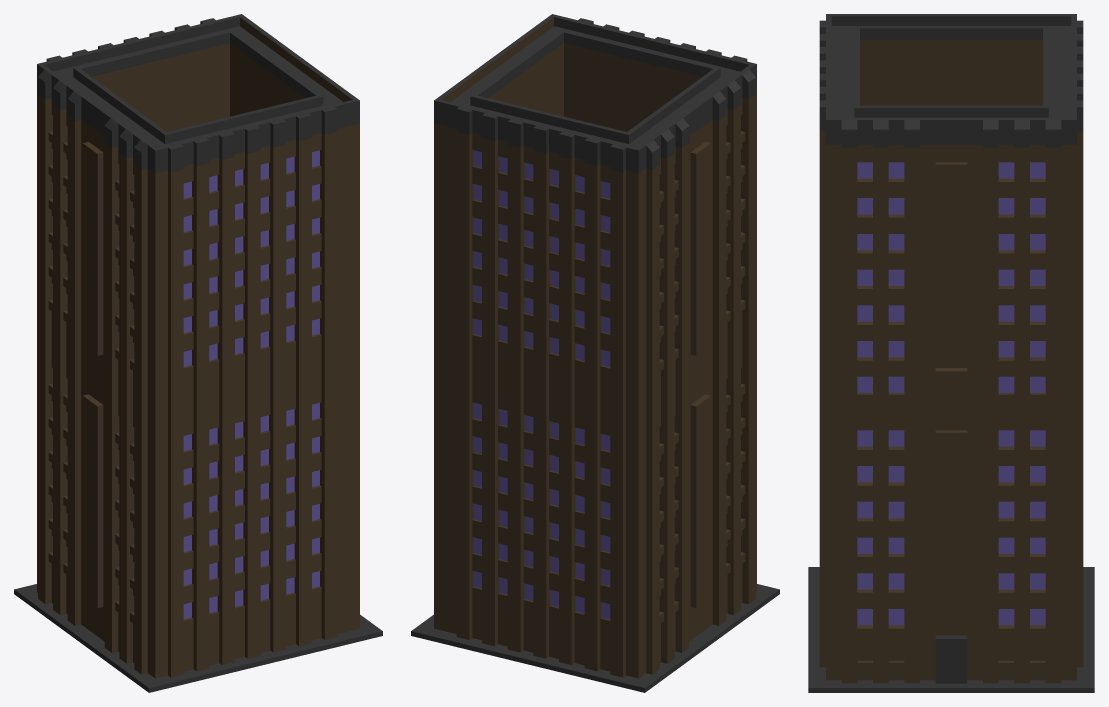
3 renders of one model, left to right at view 1: azimuth 30°, elevation 25°; view 2: azimuth 150°, elevation 25°; view 3: azimuth 270°, elevation 25°, orthographic. The views are drawn at different scales.
Parts seen in each view (by area): view 1: Cube.013, Floor.007; view 2: Cube.013, Floor.007; view 3: Cube.013, Floor.007.
Boxes of the visible parts, bbox=[...] form: Cube.013: bbox=[37, 14, 359, 678]; Floor.007: bbox=[14, 584, 382, 692]; Cube.013: bbox=[434, 14, 756, 678]; Floor.007: bbox=[411, 584, 779, 692]; Cube.013: bbox=[819, 14, 1083, 683]; Floor.007: bbox=[808, 567, 1094, 692].
Size of the model in its own units: 800 by 1742 by 800.
